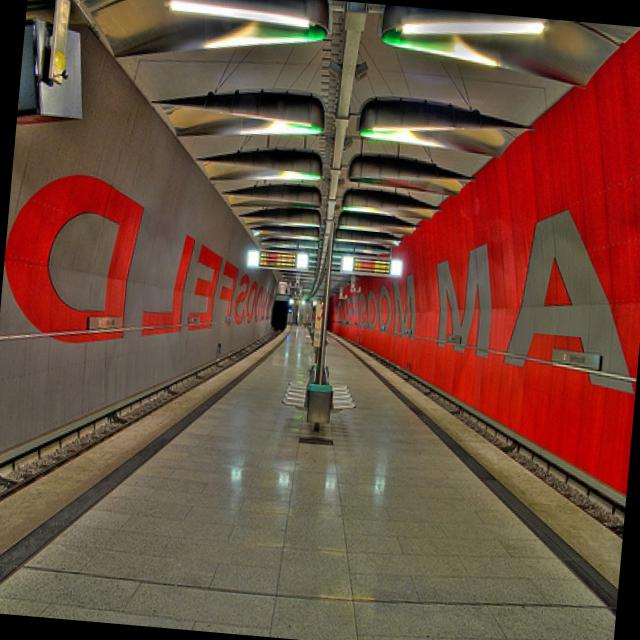ceiling beam: (33, 0, 640, 299)
lamp crop: (383, 20, 547, 67), (164, 0, 327, 45), (248, 246, 262, 266), (340, 254, 355, 272), (391, 256, 405, 275), (298, 249, 311, 269)
monitor crop: (20, 0, 82, 122)
platform: (0, 320, 621, 640)
railroad train: (0, 324, 286, 502), (366, 351, 625, 537)
seats crop: (283, 362, 315, 405), (328, 364, 358, 406)
sign: (262, 249, 298, 267), (355, 256, 391, 271)
staircase: (294, 297, 317, 320)
train crop: (272, 291, 290, 327)
wall clock: (316, 29, 640, 494), (0, 0, 293, 456)
